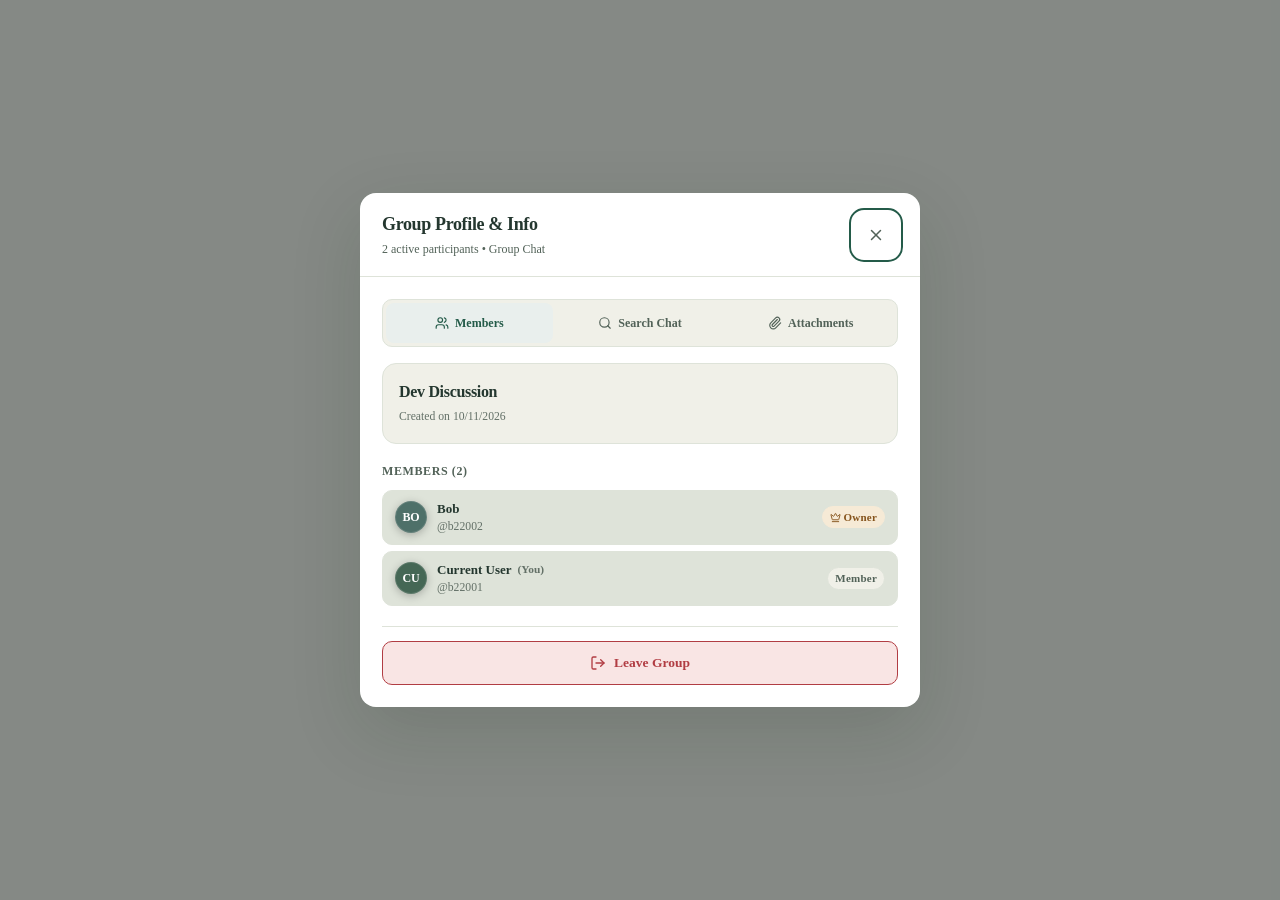
Test: Expanded Profile Modals › renders group profile expanded modal with members, embedded search, and attachments tabs
Expected: the heading "Group Profile & Info" is shown, [382,211,545,238]
Expected: the heading "Dev Discussion" is shown, [399,380,506,404]
Switch to Search Chat tab
Click the button "Search Chat". click: (640, 323)
box: [557,303,723,343]
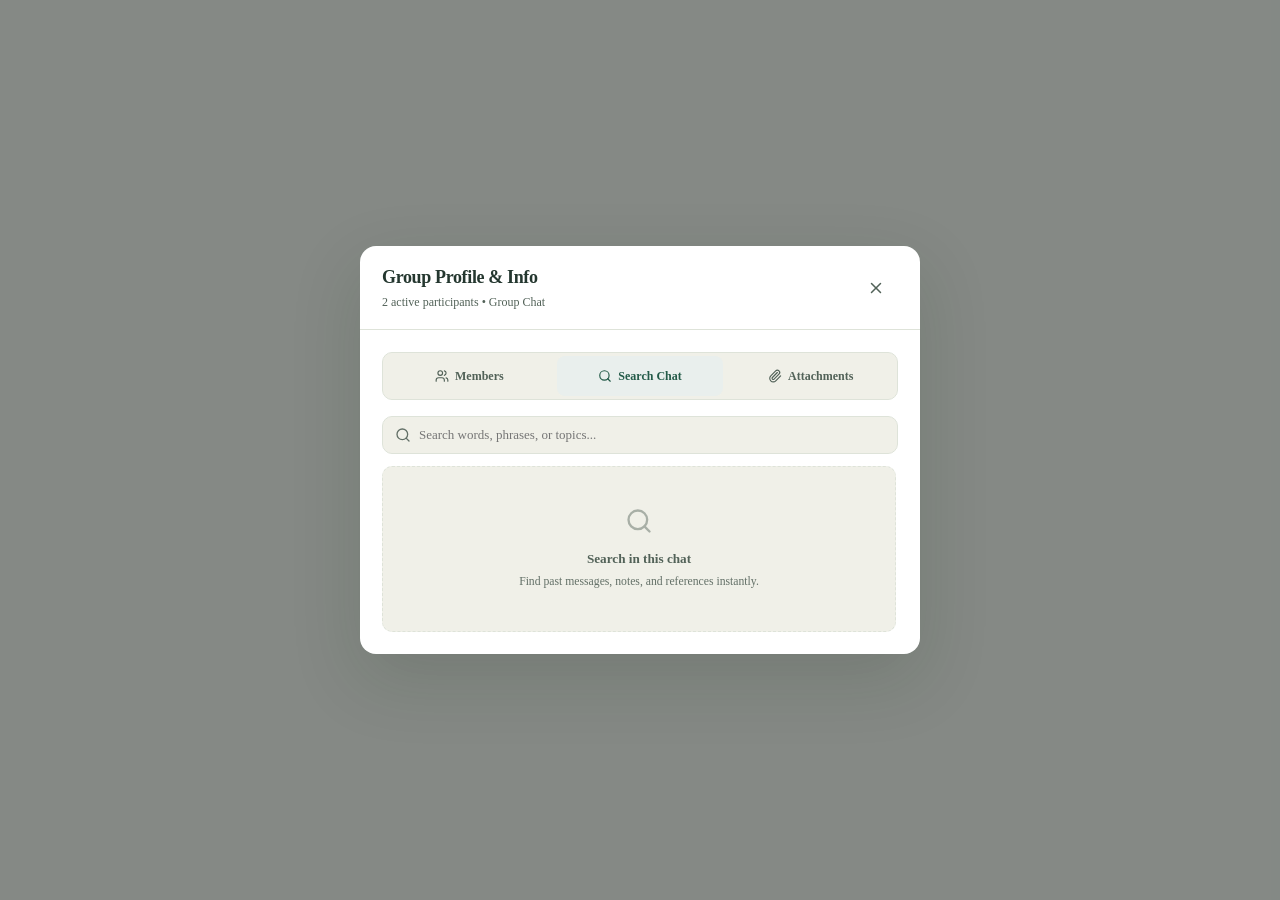
Expected: the field with placeholder "Search words, phrases, or topics..." is shown, [419,425,885,445]
Switch to Attachments tab
Click the button "Attachments". click: (811, 376)
box: [727,356,894,396]
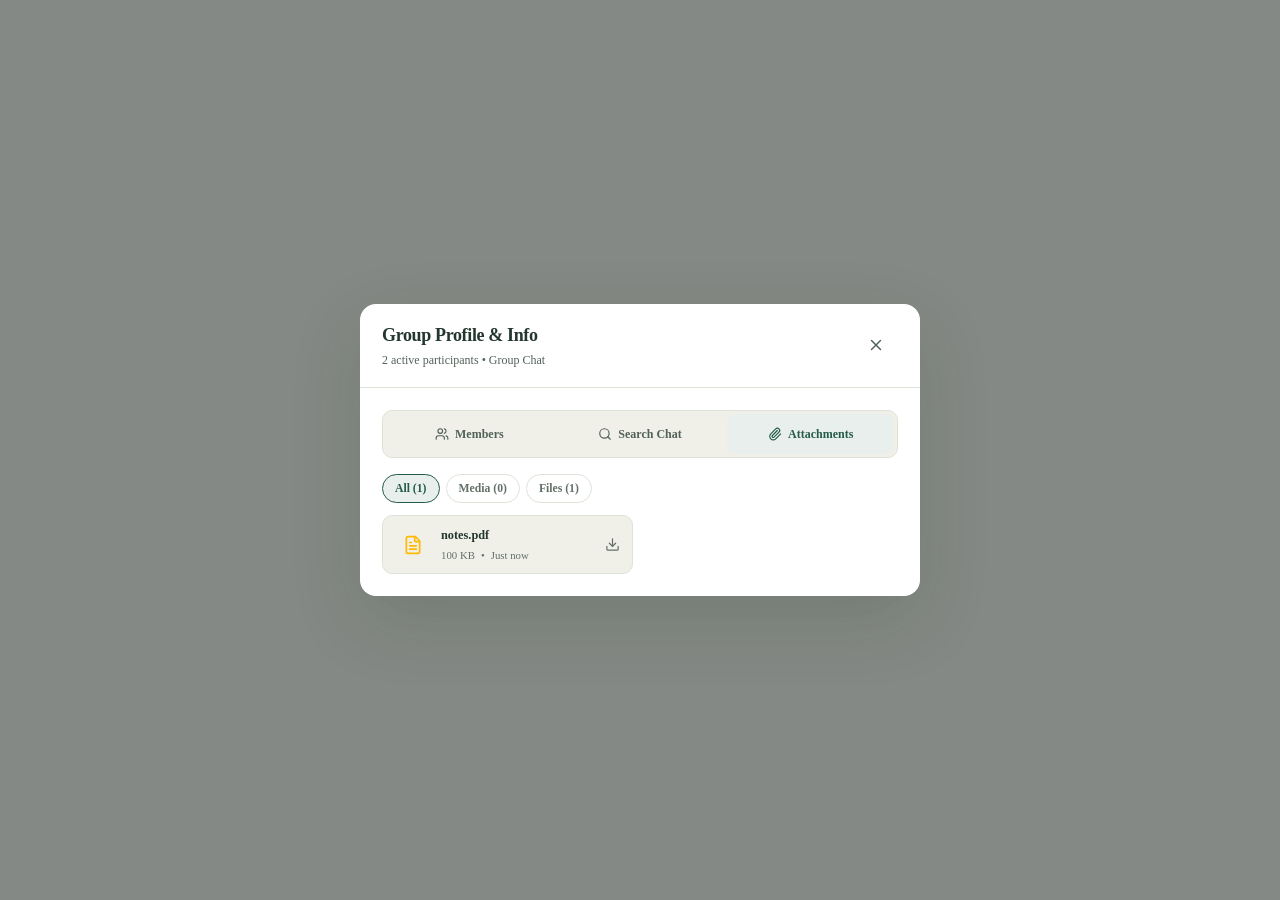
Expected: the button "All (1)" is shown, [382,474,440,503]
